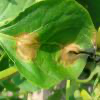Bell_pepper leaf spot: (4, 5, 98, 90)
